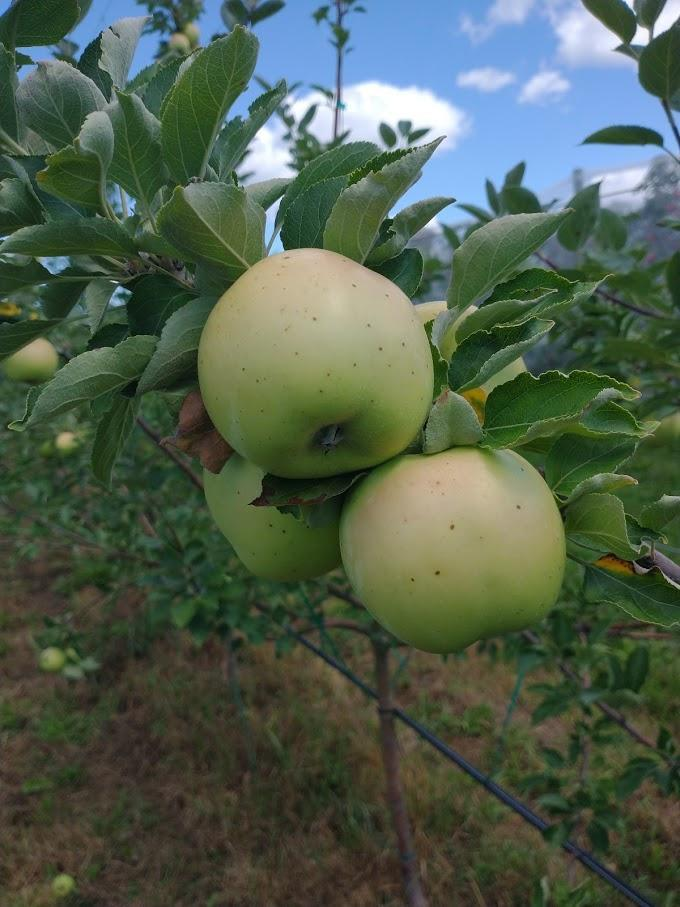apple: (198, 235, 436, 471), (337, 438, 565, 652)
